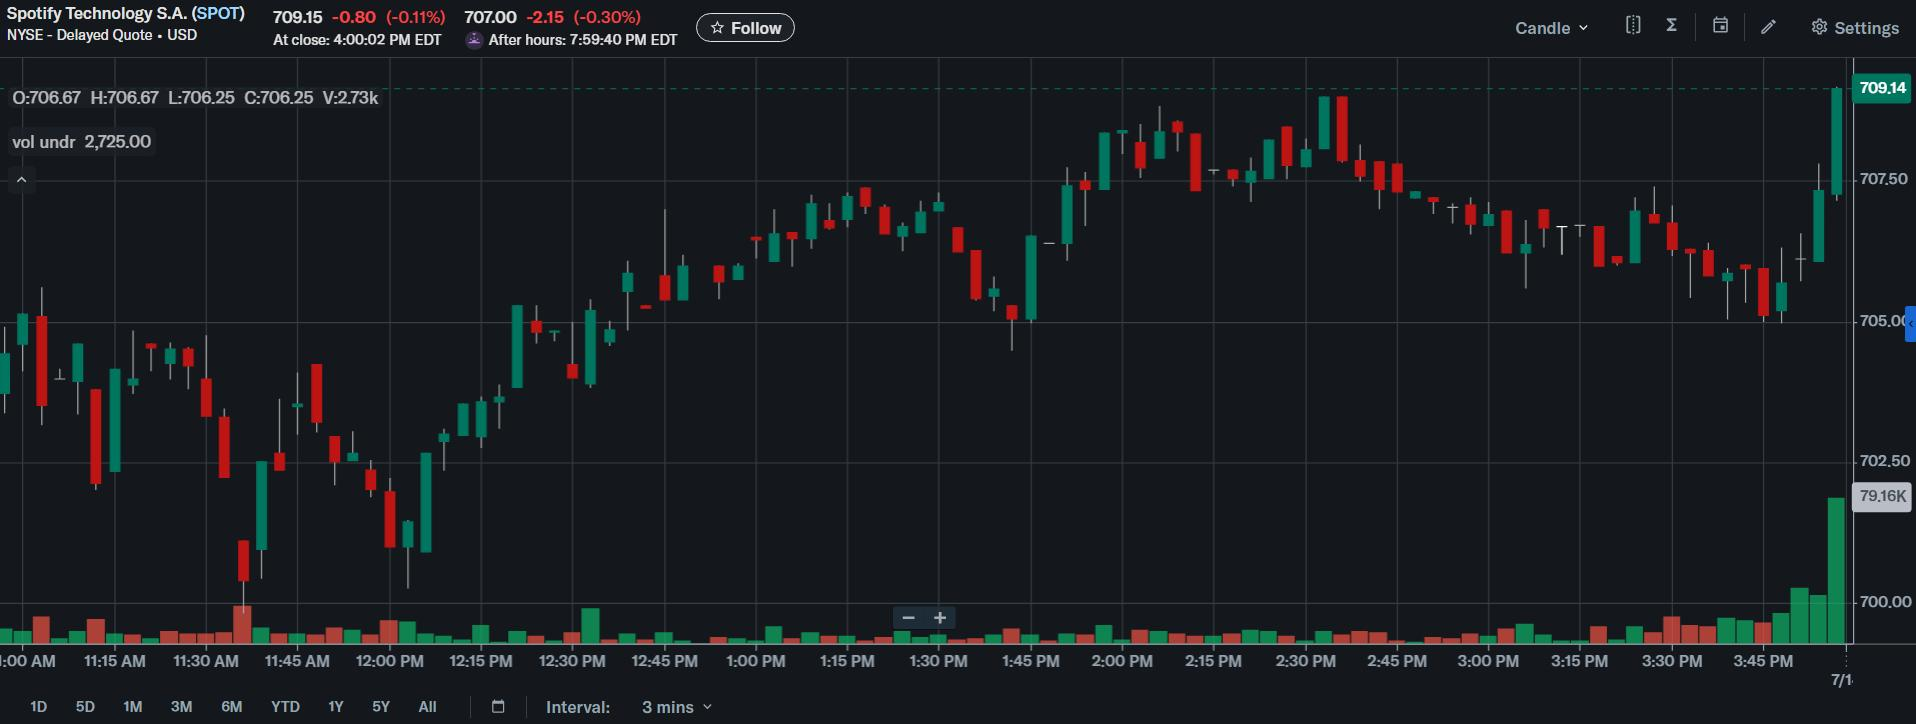Downtrend: (1336, 68, 1764, 369)
Uptrend: (396, 157, 882, 601), (1014, 88, 1156, 387)
